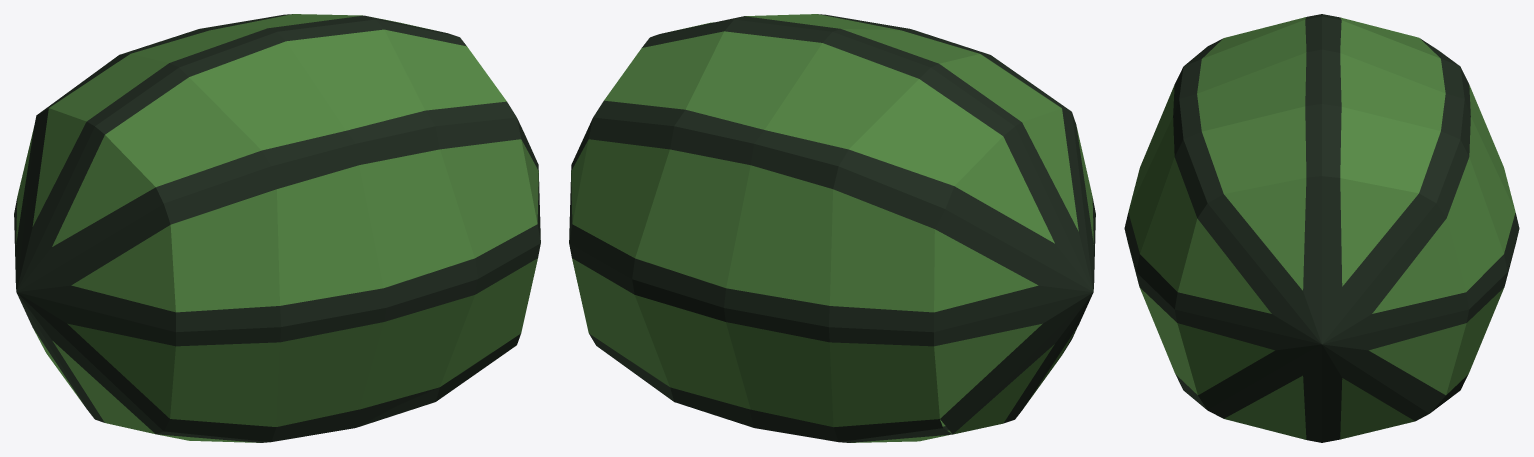
File: Watermelon.fbx
3 views of the same model, side by side, from view 1: azimuth 30°, elevation 25°; view 2: azimuth 150°, elevation 25°; view 3: azimuth 270°, elevation 25° (orthographic). The views are drawn at different scales.
Parts seen in each view (by area): view 1: Watermelon; view 2: Watermelon; view 3: Watermelon.
Boxes of the visible parts, x1=… form: Watermelon: x1=14, y1=14, x2=540, y2=442; Watermelon: x1=569, y1=14, x2=1095, y2=442; Watermelon: x1=1124, y1=14, x2=1519, y2=442.
Bounding box in the file's own units: 39.97 × 28.77 × 28.77.
